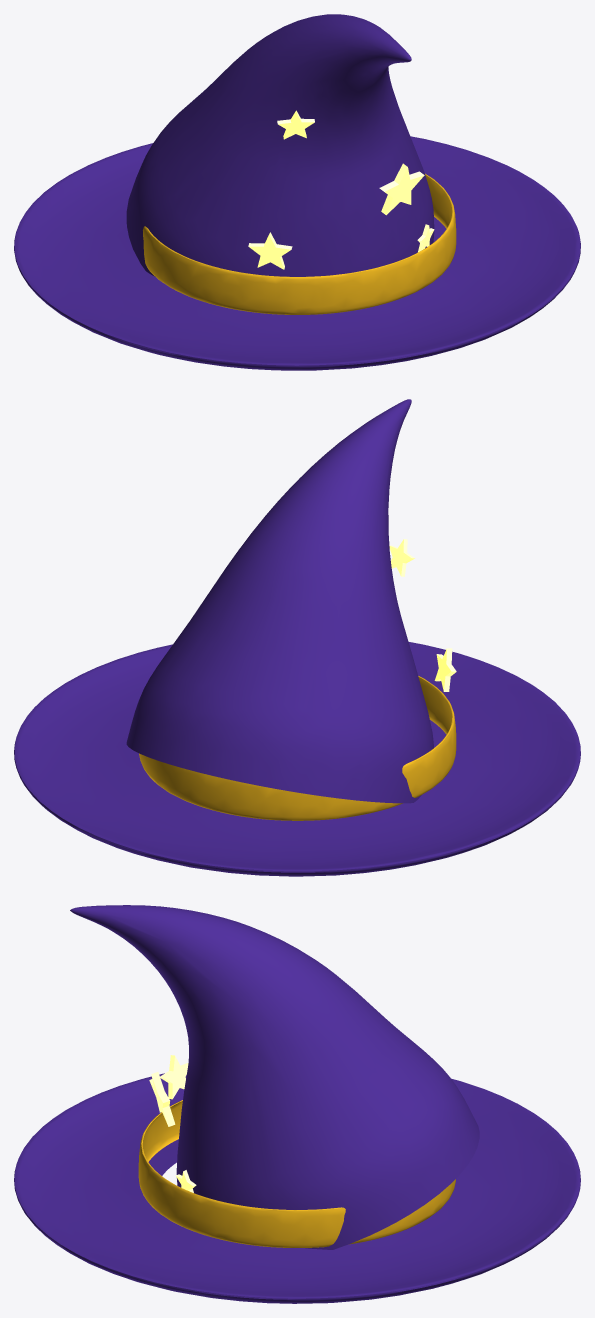
Rendered from mago.glb.
3 views of the same model, one above another, from view 1: azimuth 30°, elevation 25°; view 2: azimuth 150°, elevation 25°; view 3: azimuth 270°, elevation 25° (orthographic).
Parts seen in each view (by area): view 1: mago; view 2: mago; view 3: mago.
Part boxes in pixels (x1,y1,x2,y2): mago: [14, 14, 580, 370]; mago: [14, 399, 580, 876]; mago: [14, 905, 580, 1303].
Size of the model in its own units: 1.72 by 1.09 by 1.72.
